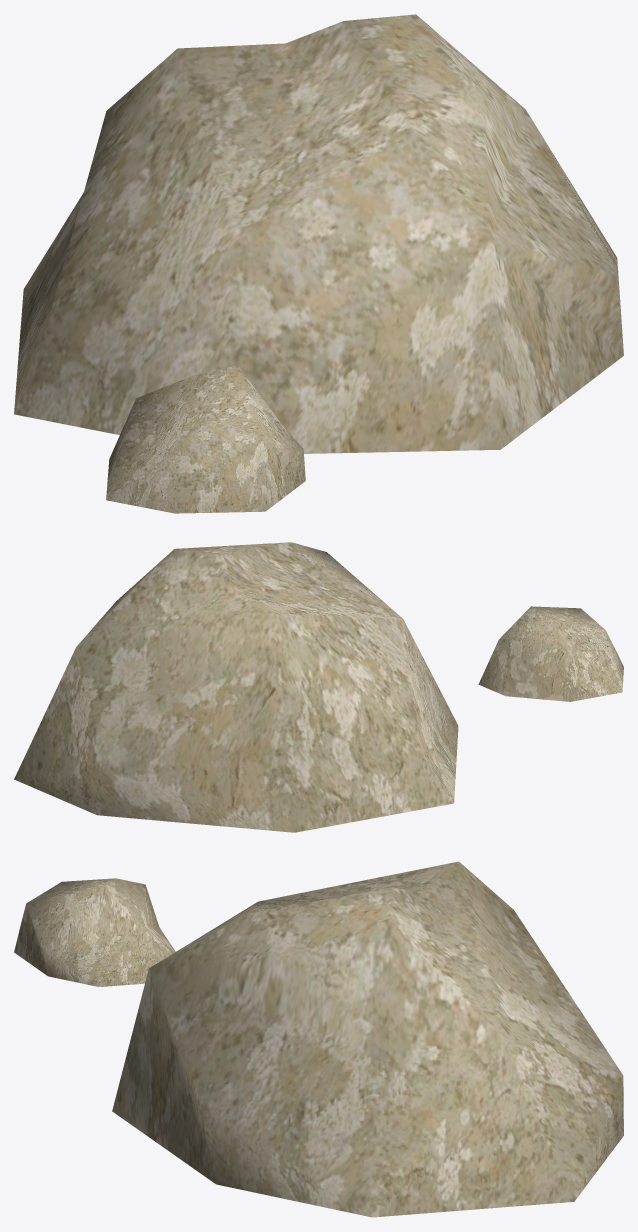
File: rock_small_pile_a3_l0.fbx
3 renders of one model, top to bottom at view 1: azimuth 30°, elevation 25°; view 2: azimuth 150°, elevation 25°; view 3: azimuth 270°, elevation 25°, orthographic. The views are drawn at different scales.
Visible parts, largest first — view 1: mesh_node; view 2: mesh_node; view 3: mesh_node.
Part boxes in pixels (x1,y1,x2,y2): mesh_node: [14, 14, 623, 513]; mesh_node: [14, 542, 623, 832]; mesh_node: [14, 861, 623, 1217].
Bounding box in the file's own units: 1.53 × 0.6461 × 1.49.
